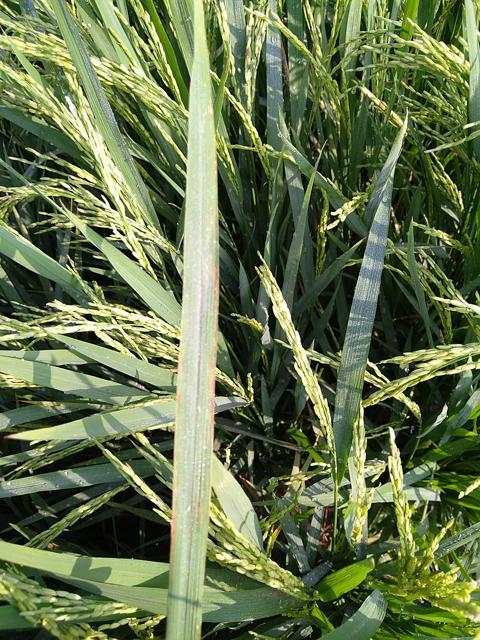Leaf Streak: (166, 0, 220, 639)
